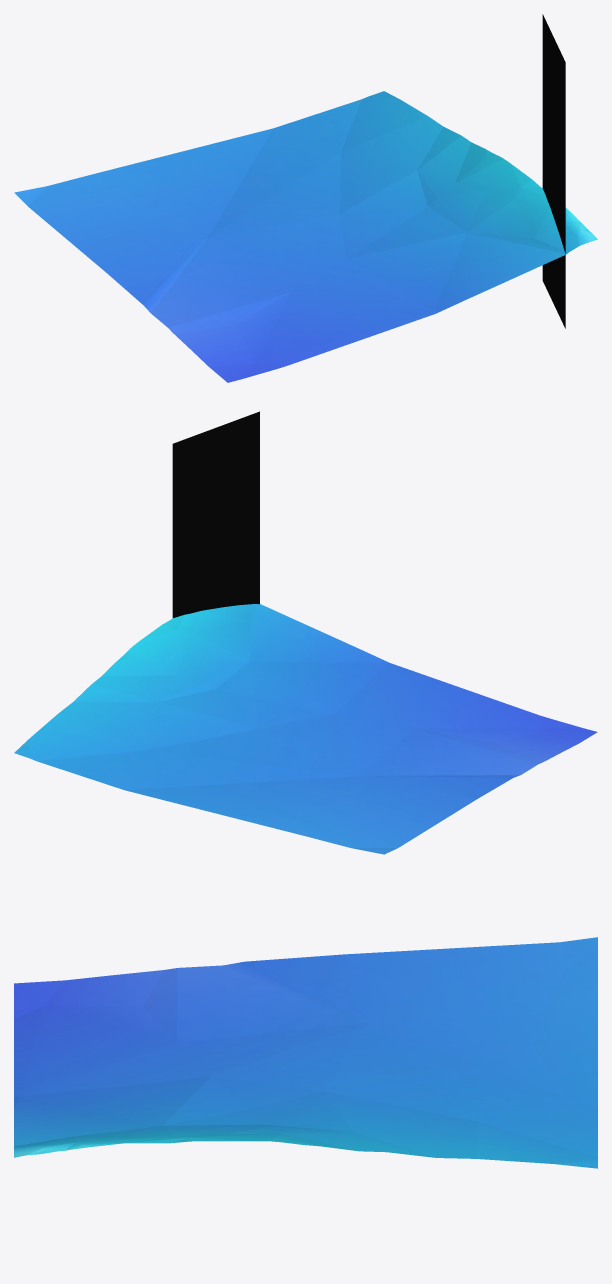
The picture shows the model from 3 angles, top to bottom: view 1: azimuth 30°, elevation 25°; view 2: azimuth 150°, elevation 25°; view 3: azimuth 270°, elevation 25°; orthographic projection. The views are drawn at different scales.
Bounding box in the file's own units: 13.06 × 9 × 13.06.
Materials: 4 (4 with a texture image).
